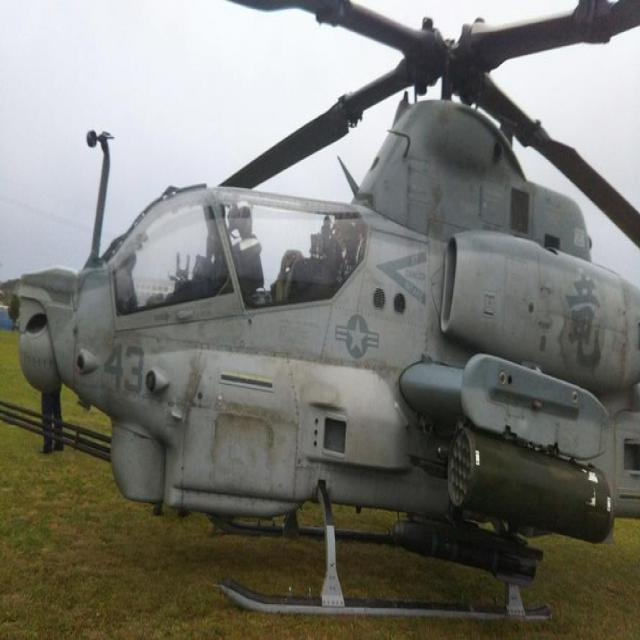MIL_HELO: (22, 0, 640, 639)
